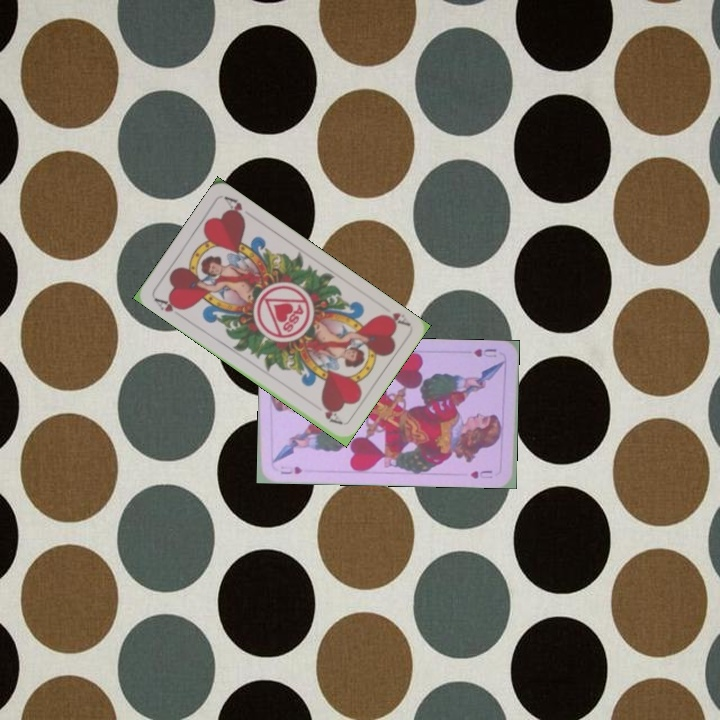HA: (150, 294, 187, 321), (376, 308, 412, 329)
HU: (470, 345, 499, 360), (277, 462, 305, 477)
